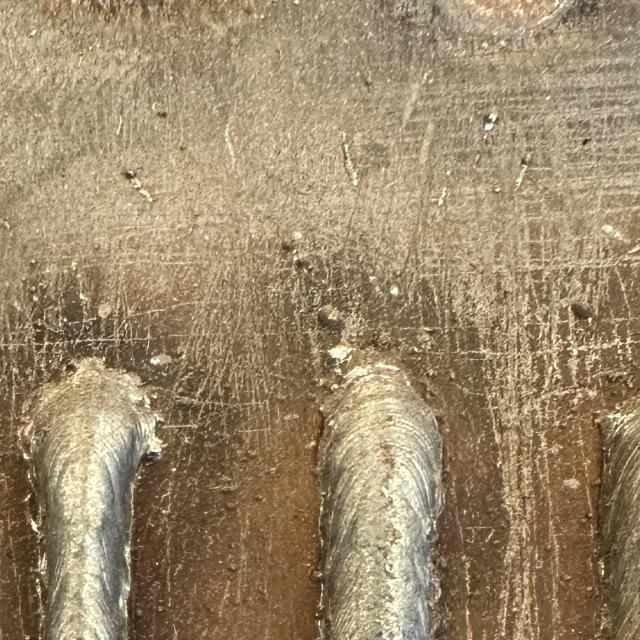Excess Reinforcement: (322, 344, 413, 392), (68, 358, 150, 410), (128, 392, 157, 454), (140, 435, 167, 465), (144, 395, 150, 407), (156, 412, 162, 421)
Spatters: (317, 304, 345, 329), (570, 302, 597, 321), (282, 234, 302, 253), (484, 112, 498, 132), (520, 149, 533, 165), (295, 259, 313, 269), (362, 74, 373, 88), (123, 170, 137, 180), (492, 186, 502, 194)
